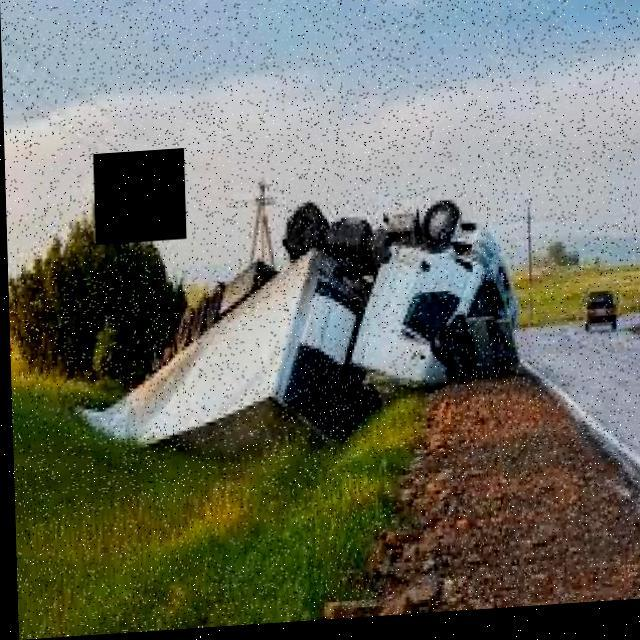single accident: (18, 120, 568, 502)
